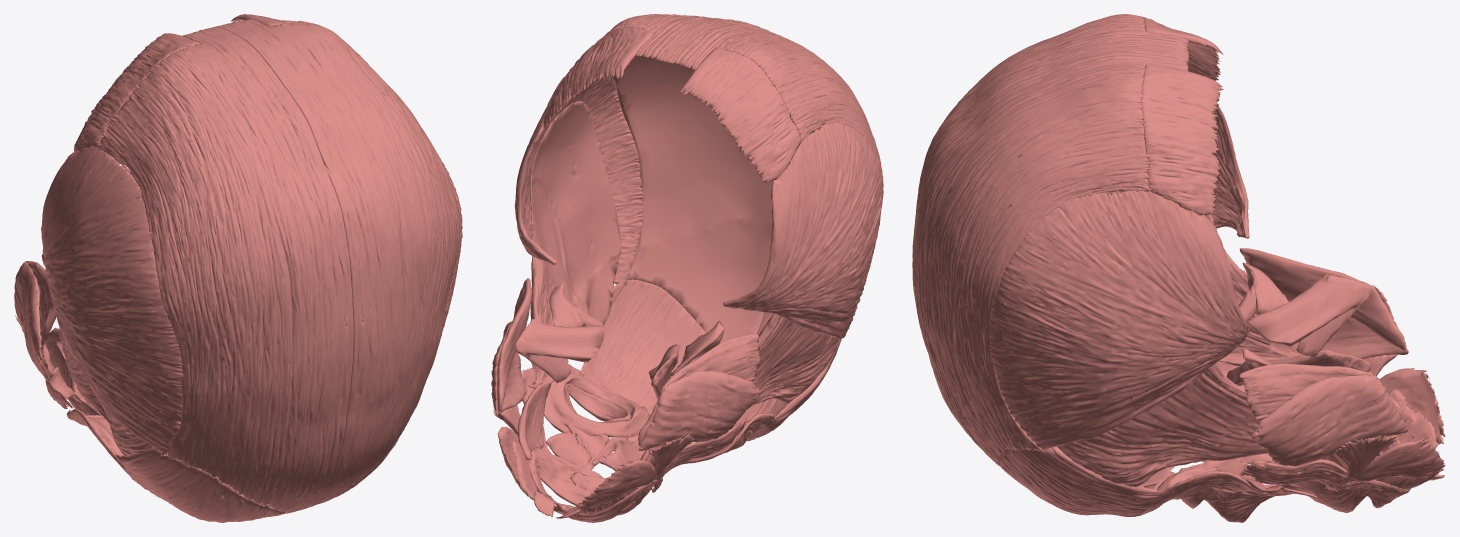
The model's file is head__muscular.cf01720247.glb.
The picture shows the model from 3 angles, left to right: view 1: azimuth 30°, elevation 25°; view 2: azimuth 150°, elevation 25°; view 3: azimuth 270°, elevation 25°; orthographic projection. The views are drawn at different scales.
Parts seen in each view (by area): view 1: FMA46768, FMA46763, FMA46759, FMA46761, FMA49004, FMA49007, FMA49001, FMA46785, FMA46812, FMA46835, FMA46764; view 2: FMA46768, FMA46763, FMA49008, FMA46760, FMA46761, FMA46764, FMA49004, FMA49007, FMA46762, FMA49013, FMA46841, FMA46786 (+18 smaller); view 3: FMA46768, FMA46764, FMA49008, FMA46762, FMA49005, FMA46760, FMA49012, FMA49001, FMA49002, FMA46763, FMA46830, FMA46786 (+13 smaller).
Boxes of the visible parts, left/top/right/bottom form: FMA46768: left=96, top=19, right=460, bottom=513; FMA46763: left=41, top=147, right=183, bottom=452; FMA46759: left=116, top=446, right=285, bottom=522; FMA46761: left=74, top=33, right=200, bottom=152; FMA49004: left=14, top=261, right=54, bottom=381; FMA49007: left=56, top=327, right=151, bottom=456; FMA49001: left=26, top=261, right=56, bottom=345; FMA46785: left=70, top=409, right=129, bottom=475; FMA46812: left=45, top=367, right=83, bottom=408; FMA46835: left=45, top=327, right=74, bottom=392; FMA46764: left=440, top=158, right=462, bottom=335; FMA46768: left=596, top=14, right=881, bottom=343; FMA46763: left=723, top=122, right=883, bottom=338; FMA49008: left=528, top=101, right=621, bottom=388; FMA46760: left=580, top=279, right=705, bottom=413; FMA46761: left=680, top=47, right=801, bottom=182; FMA46764: left=514, top=75, right=643, bottom=285; FMA49004: left=638, top=370, right=760, bottom=450; FMA49007: left=747, top=313, right=840, bottom=409; FMA46762: left=543, top=27, right=653, bottom=128; FMA49013: left=515, top=319, right=604, bottom=382; FMA46841: left=529, top=448, right=657, bottom=522; FMA46786: left=546, top=364, right=649, bottom=437; FMA46768: left=912, top=14, right=1189, bottom=466; FMA46764: left=989, top=190, right=1249, bottom=449; FMA49008: left=1057, top=362, right=1267, bottom=486; FMA46762: left=1140, top=64, right=1223, bottom=215; FMA49005: left=1251, top=374, right=1408, bottom=466; FMA46760: left=998, top=446, right=1163, bottom=516; FMA49012: left=1246, top=274, right=1371, bottom=355; FMA49001: left=1239, top=248, right=1405, bottom=350; FMA49002: left=1239, top=363, right=1405, bottom=420; FMA46763: left=1210, top=105, right=1249, bottom=238; FMA46830: left=1353, top=439, right=1445, bottom=481; FMA46786: left=1143, top=468, right=1268, bottom=514.
Size of the model in its own units: 156 by 199 by 203.
